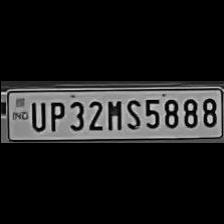2: (84, 97, 104, 131)
3: (65, 97, 84, 131)
5: (141, 95, 159, 129)
8: (160, 95, 180, 129), (198, 96, 218, 128), (180, 95, 198, 129)
M: (104, 96, 122, 130)
P: (44, 98, 64, 132)
S: (123, 96, 141, 130)
U: (27, 99, 46, 131)
